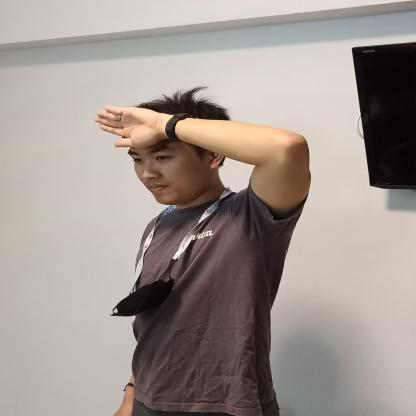Sick: (73, 102, 328, 204)
